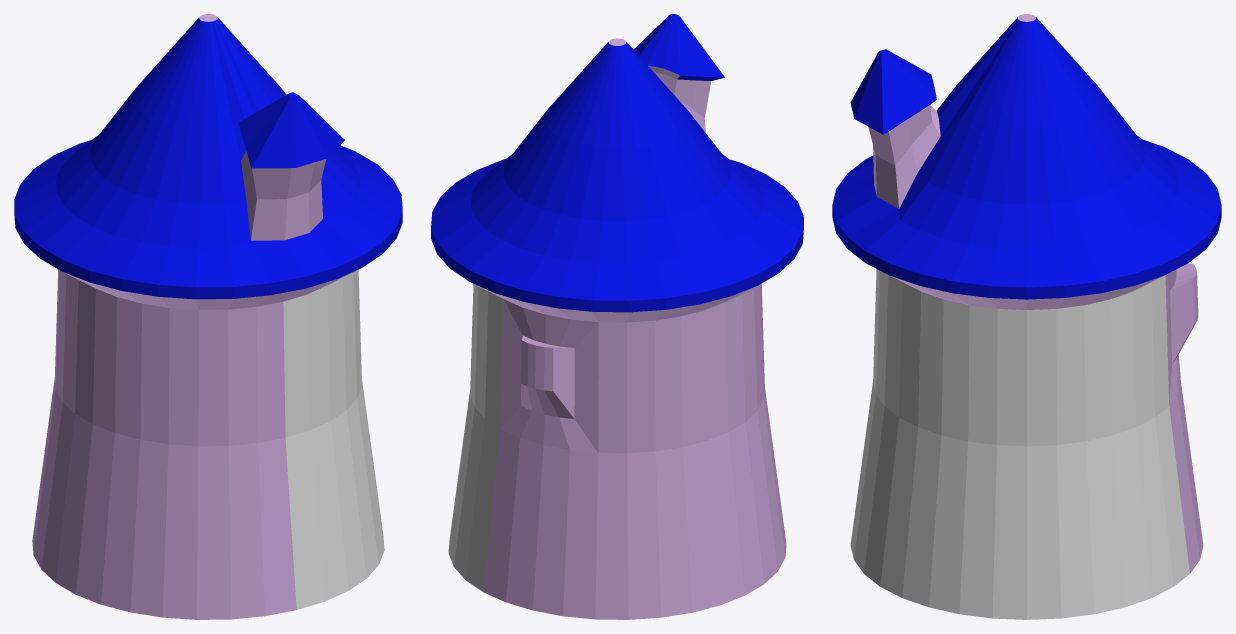
Rendered from MagicTower.fbx.
3 renders of one model, left to right at view 1: azimuth 30°, elevation 25°; view 2: azimuth 150°, elevation 25°; view 3: azimuth 270°, elevation 25°, orthographic. The views are drawn at different scales.
Parts seen in each view (by area): view 1: Cylinder; view 2: Cylinder; view 3: Cylinder.
Boxes of the visible parts, x1,y1,x2,y2 form: Cylinder: (14,14,402,619); Cylinder: (431,14,803,619); Cylinder: (832,14,1221,619).
Bounding box in the file's own units: 580 × 867 × 580.
